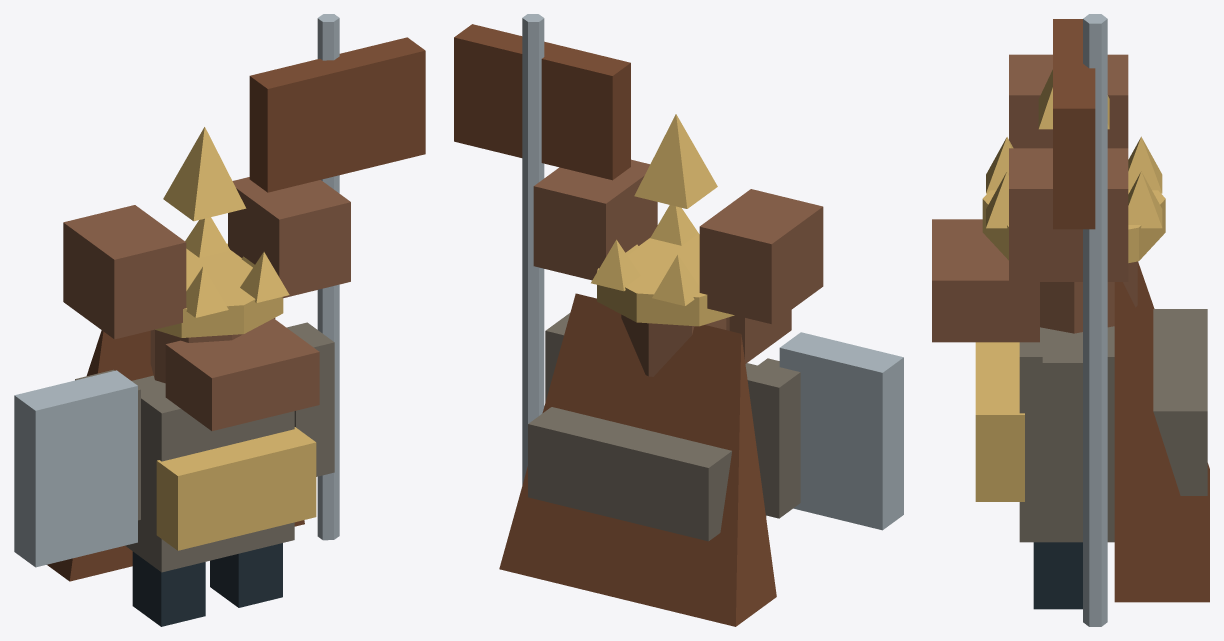
Rendered from hero.obj.
3 views of the same model, side by side, from view 1: azimuth 30°, elevation 25°; view 2: azimuth 150°, elevation 25°; view 3: azimuth 270°, elevation 25° (orthographic). The views are drawn at different scales.
Parts seen in each view (by area): view 1: hero; view 2: hero; view 3: hero.
Boxes of the visible parts, box(x1,y1,x2,y2) form: hero: box(14, 14, 425, 626); hero: box(454, 14, 903, 626); hero: box(932, 14, 1209, 626).
Bounding box in the file's own units: 1.94 × 2.45 × 0.9774.
